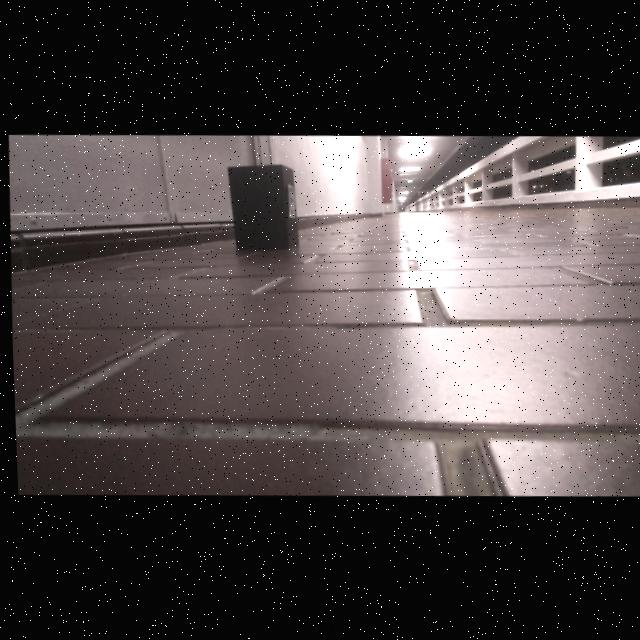E: (288, 188, 291, 215)
